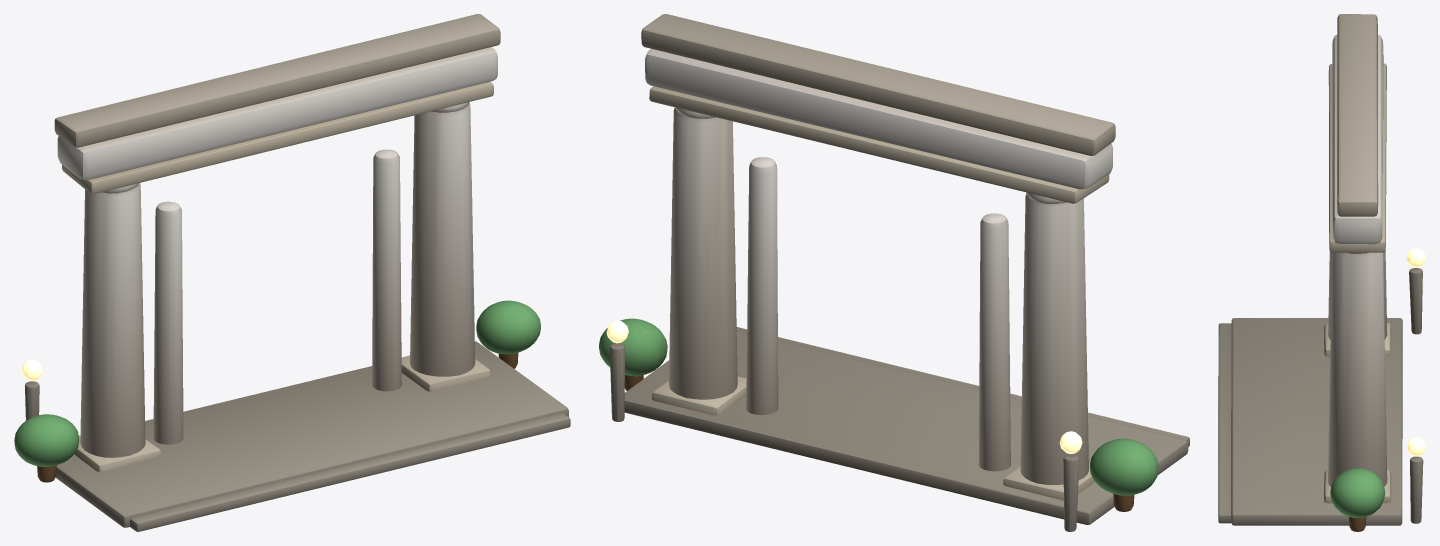
3 views of the same model, side by side, from view 1: azimuth 30°, elevation 25°; view 2: azimuth 150°, elevation 25°; view 3: azimuth 270°, elevation 25° (orthographic). The views are drawn at different scales.
Parts seen in each view (by area): view 1: gate_94c39357; view 2: gate_94c39357; view 3: gate_94c39357.
Part boxes in pixels (left/top/right/bottom): gate_94c39357: left=14, top=14, right=570, bottom=531; gate_94c39357: left=599, top=14, right=1189, bottom=531; gate_94c39357: left=1218, top=14, right=1425, bottom=531.
Size of the model in its own units: 6.7 by 4.36 by 2.55.
